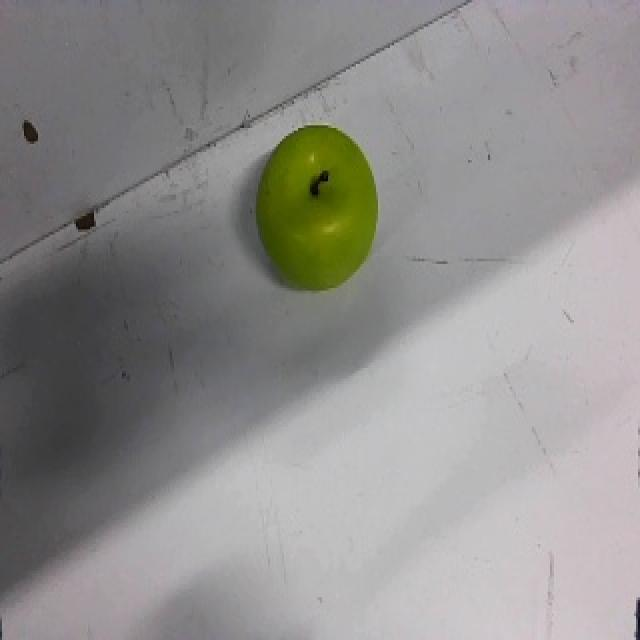apple: (254, 124, 380, 292)
